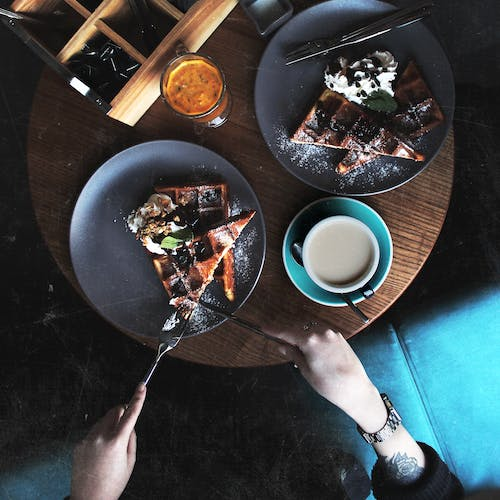knife: (199, 298, 304, 354)
